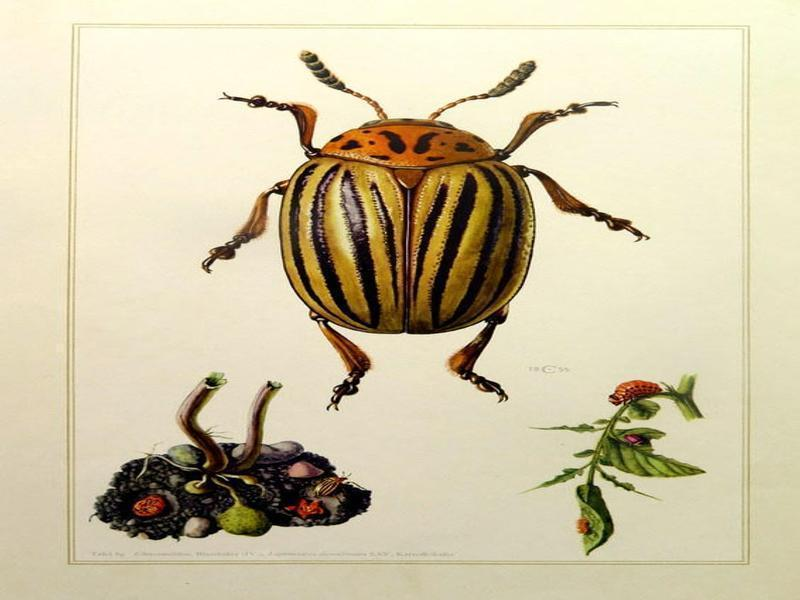hrosc: (267, 63, 554, 392)
